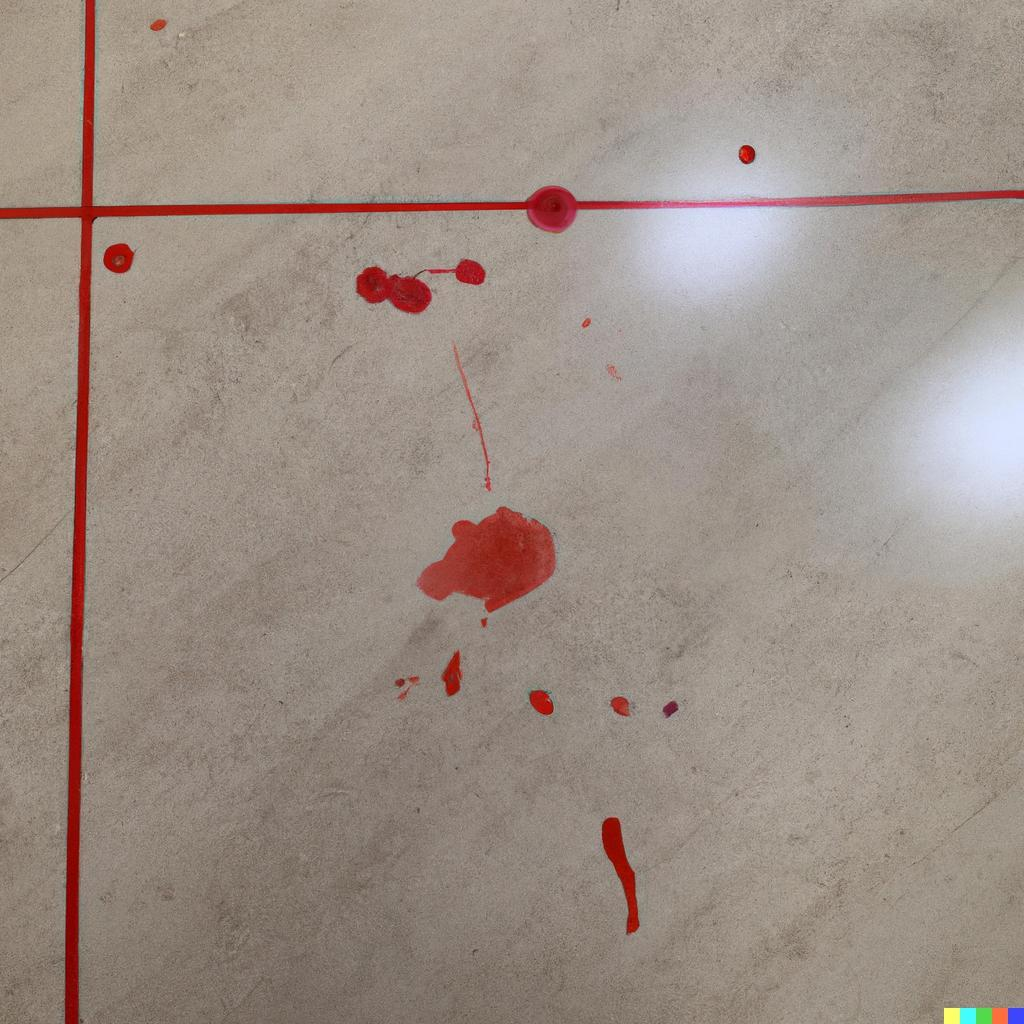Fire: (416, 505, 556, 612), (601, 816, 639, 936), (355, 266, 432, 312), (526, 185, 578, 233), (426, 258, 485, 285), (103, 243, 134, 273), (529, 690, 553, 715), (610, 696, 629, 716)
